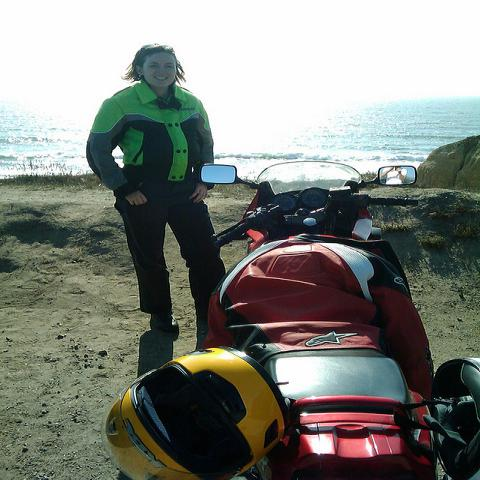motorcycle: (96, 159, 479, 475)
